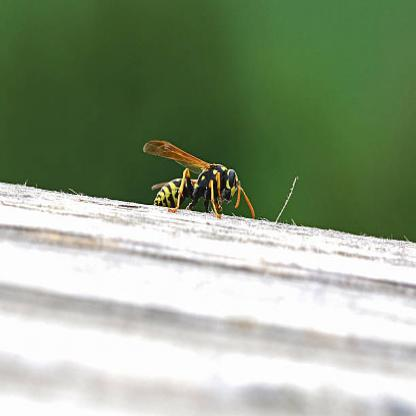sawfly: (140, 132, 258, 233)
